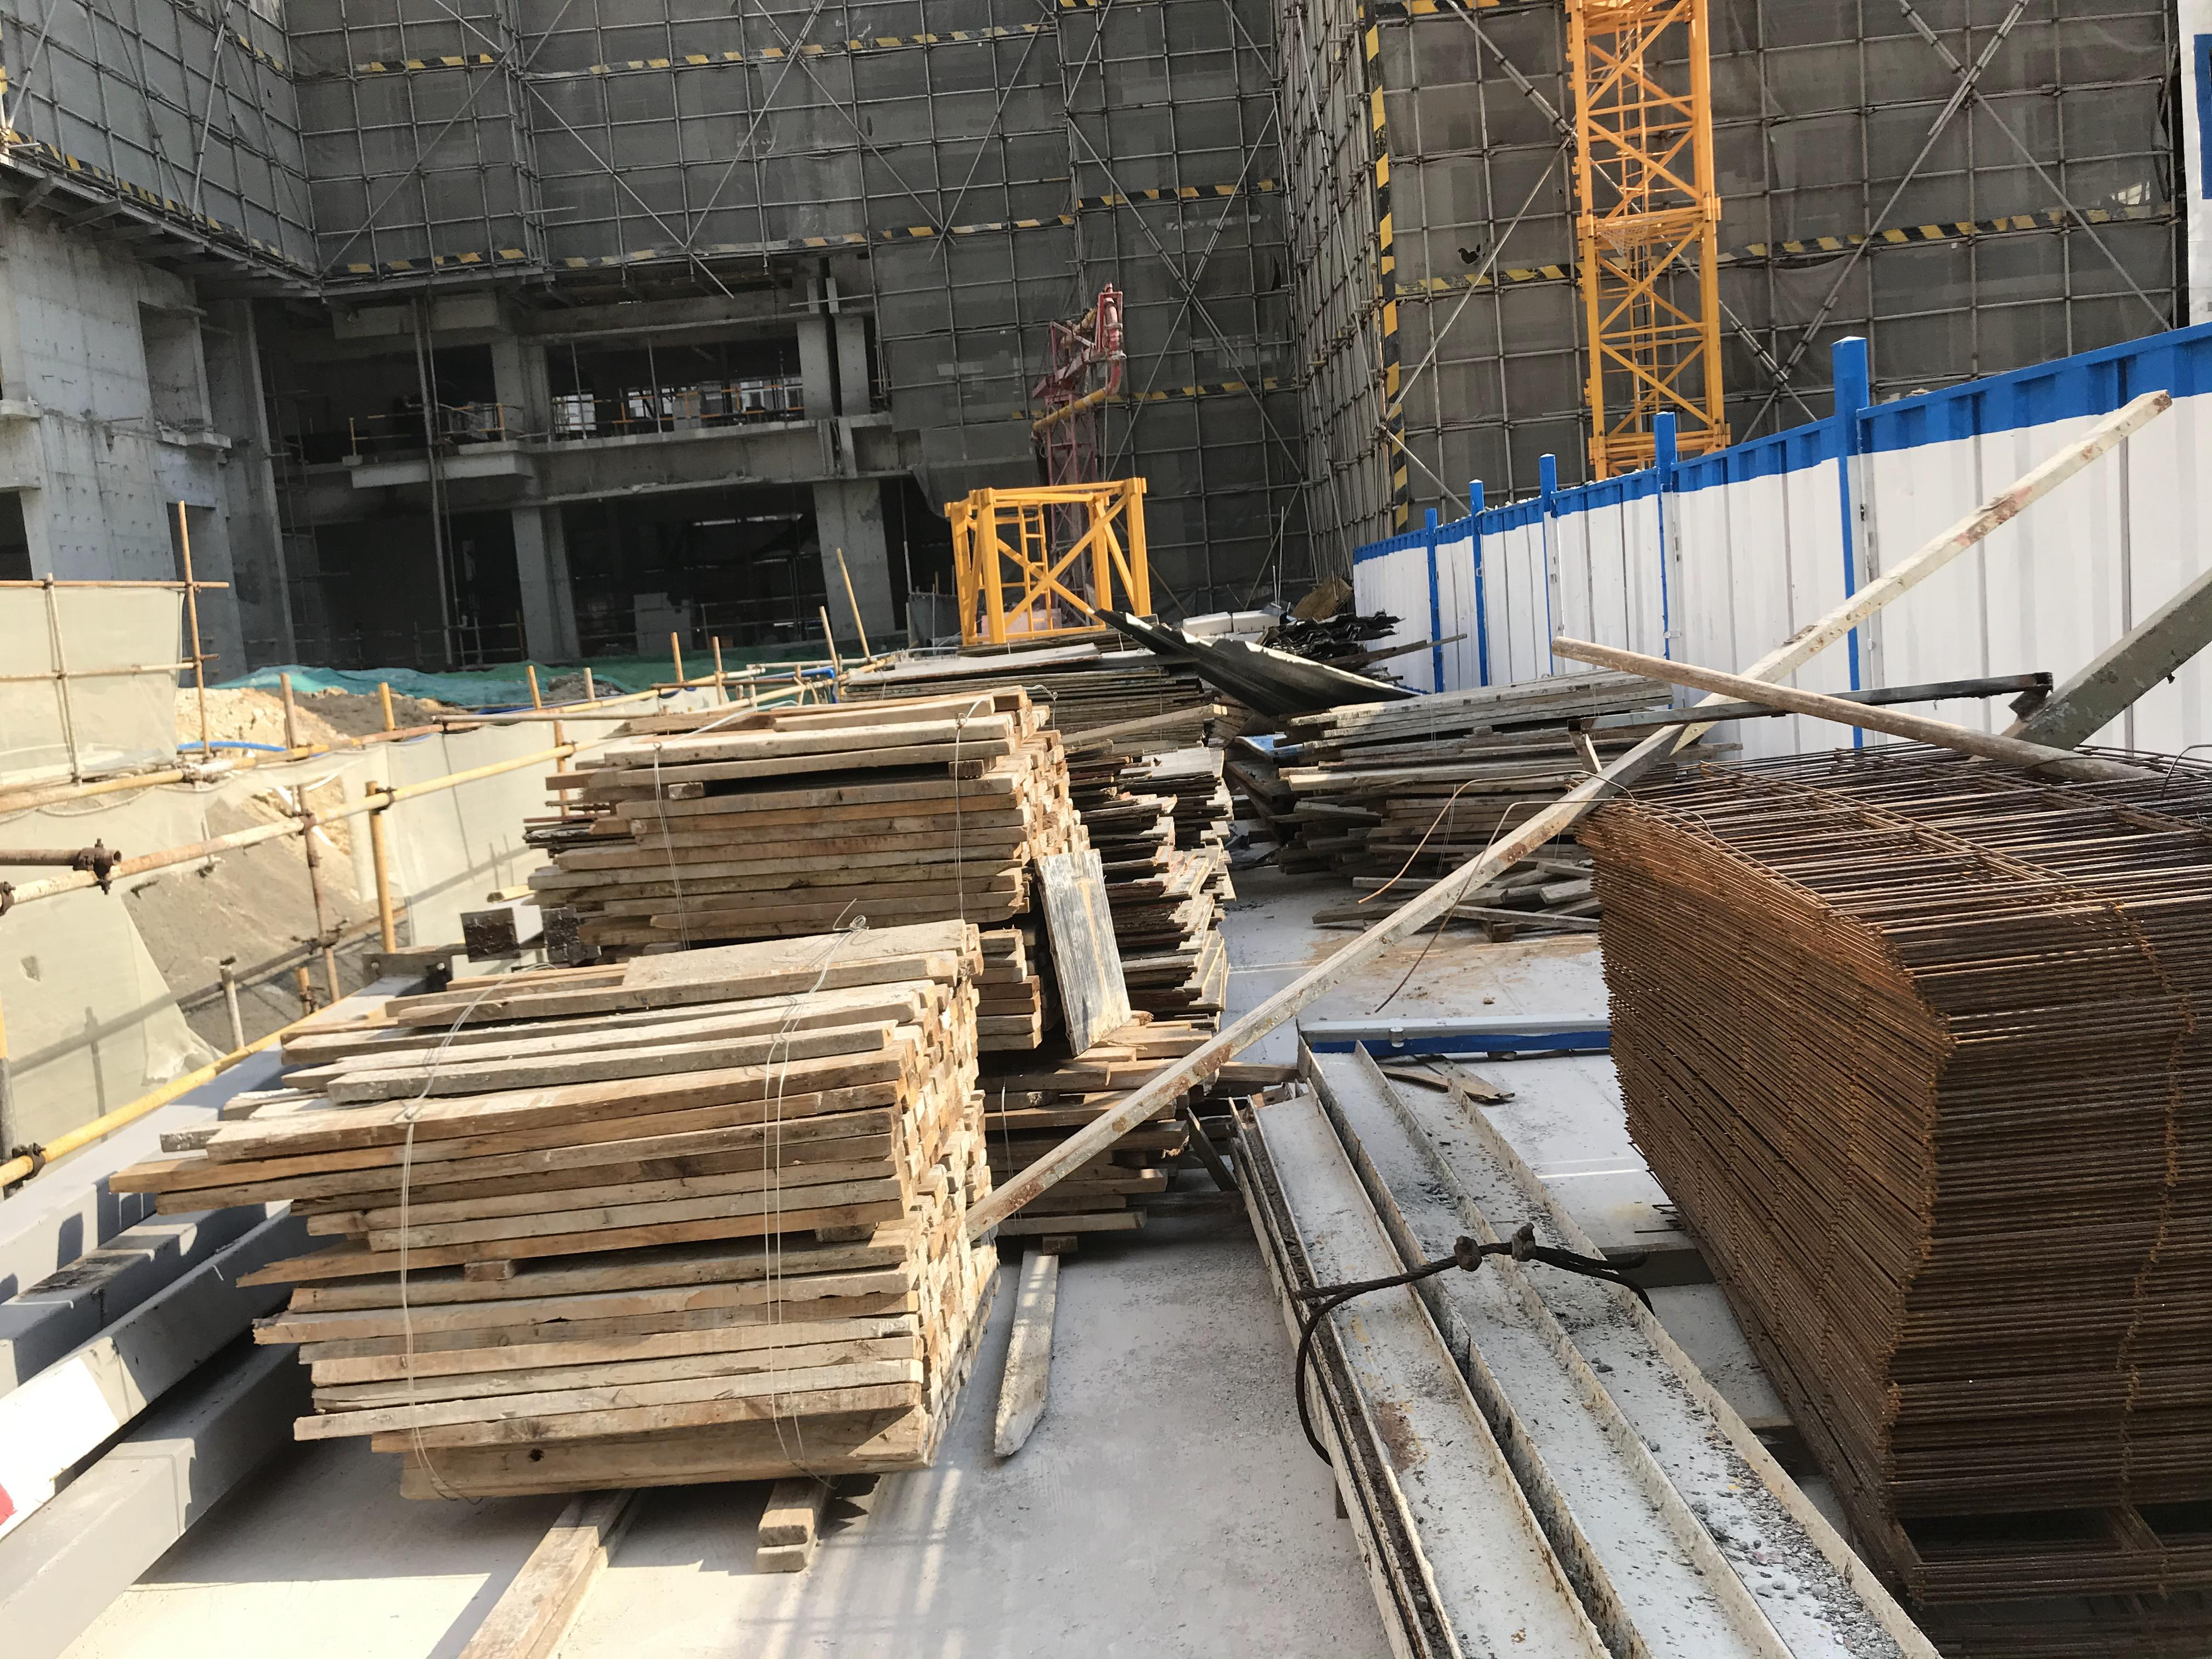wood: (106, 892, 995, 1539), (526, 706, 1076, 1035), (953, 985, 1240, 1249), (1069, 749, 1242, 1000)
